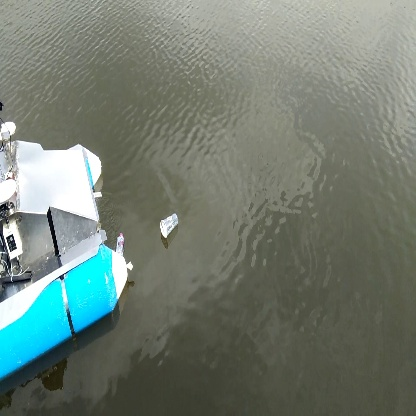bottle: (158, 211, 181, 242)
